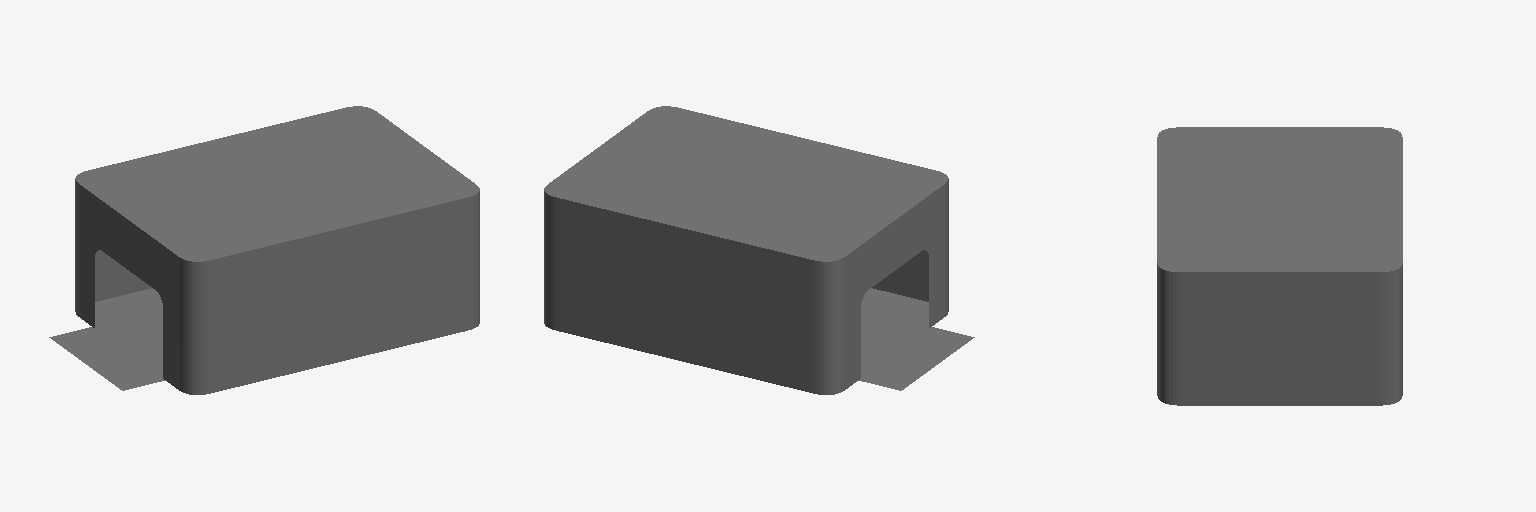
Rendered from holodeck.obj.
The picture shows the model from 3 angles: view 1: azimuth 30°, elevation 25°; view 2: azimuth 150°, elevation 25°; view 3: azimuth 270°, elevation 25°; orthographic projection.
Visible parts, largest first — view 1: holodeck:holodeckroom; view 2: holodeck:holodeckroom; view 3: holodeck:holodeckroom.
Boxes of the visible parts, x1=… form: holodeck:holodeckroom: x1=49, y1=106, x2=479, y2=394; holodeck:holodeckroom: x1=544, y1=106, x2=974, y2=394; holodeck:holodeckroom: x1=1157, y1=127, x2=1402, y2=405.
Size of the model in its own units: 85.85 by 32.14 by 53.55.